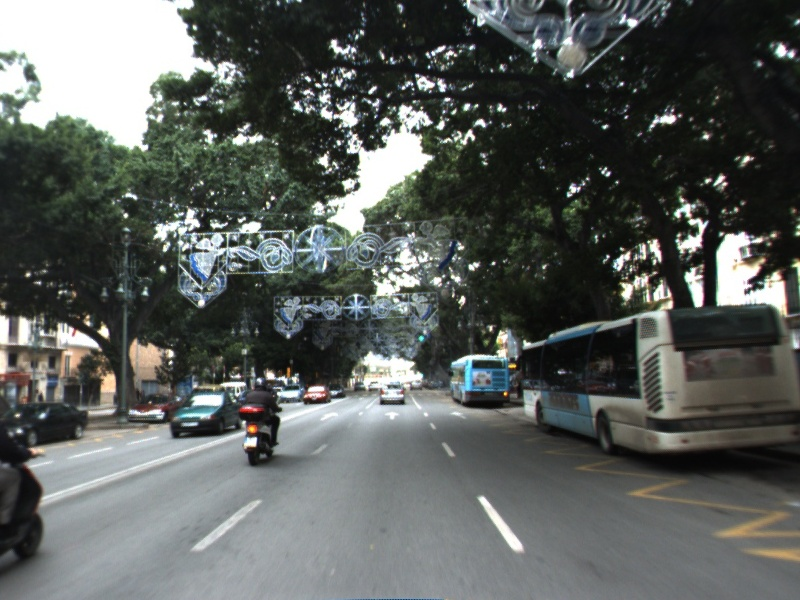STRAIGHT: (448, 409, 470, 422), (318, 410, 340, 423), (382, 410, 402, 422)
